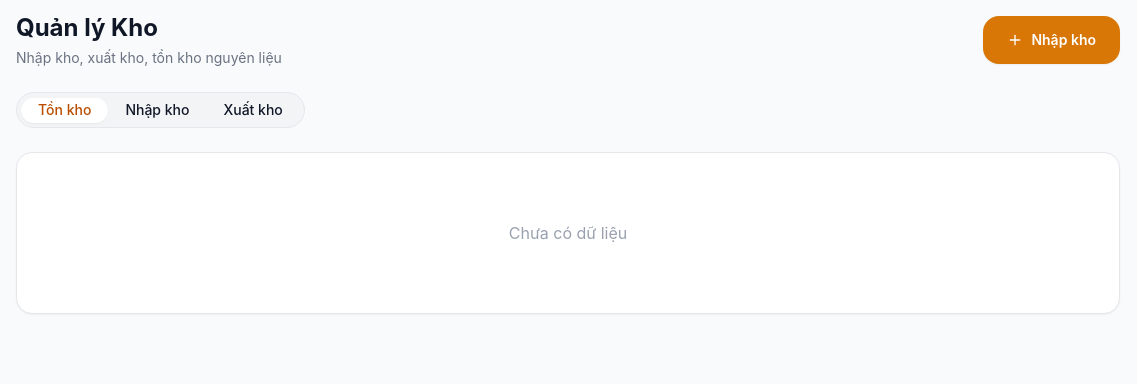
Test: InventoryClient › renders empty inventory states
expect the text "Chưa có dữ liệu" is shown: met, box [509,223,627,243]
Step 1. Click the tab "Nhập kho" → (157, 110), box [108,98,206,122]
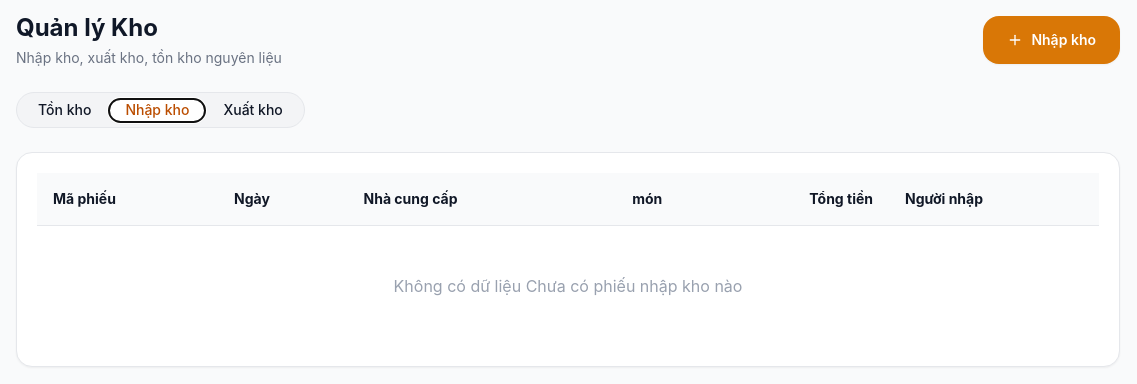
expect the text "Không có dữ liệu Chưa có phiếu nhập kho nào" is shown: met, box [394,276,742,296]
Step 2. Click the tab "Xuất kho" → (253, 110), box [206,98,300,122]
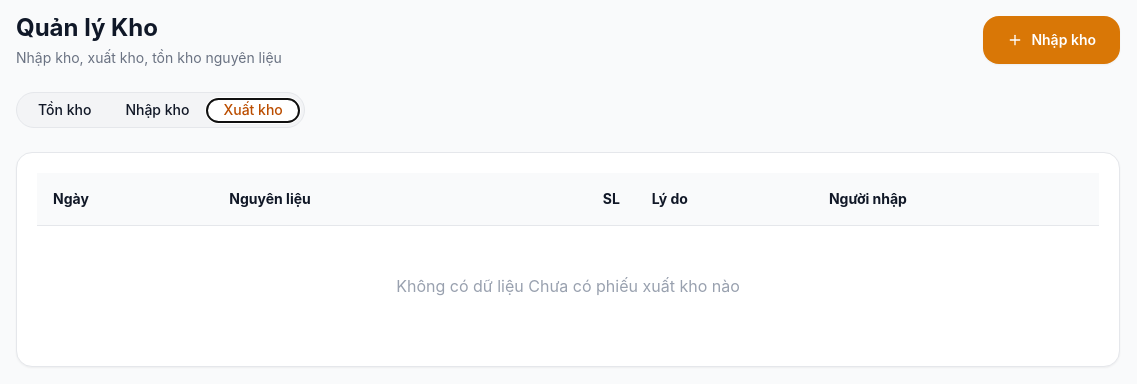
expect the text "Không có dữ liệu Chưa có phiếu xuất kho nào" is shown: met, box [396,276,740,296]
